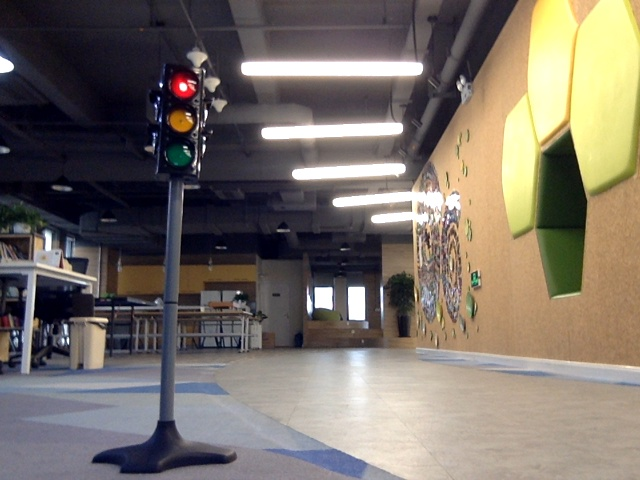red: (161, 66, 193, 173)
